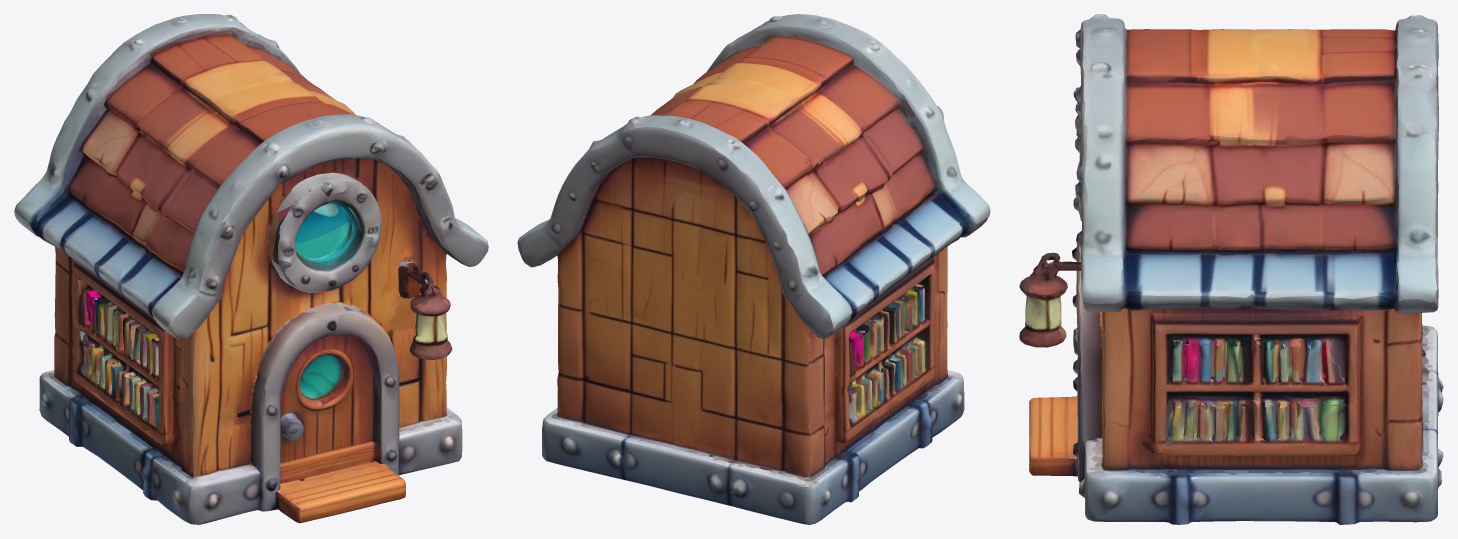
File: library.glb
3 renders of one model, left to right at view 1: azimuth 30°, elevation 25°; view 2: azimuth 150°, elevation 25°; view 3: azimuth 270°, elevation 25°, orthographic. The views are drawn at different scales.
Visible parts, largest first — view 1: library_s41; view 2: library_s41; view 3: library_s41.
Part boxes in pixels (<box>): library_s41: <box>14,14,488,524</box>; library_s41: <box>517,14,990,524</box>; library_s41: <box>1019,14,1443,524</box>.
Size of the model in its own units: 0.9117 by 1 by 0.9188.
Materials: 1 (1 with a texture image).
